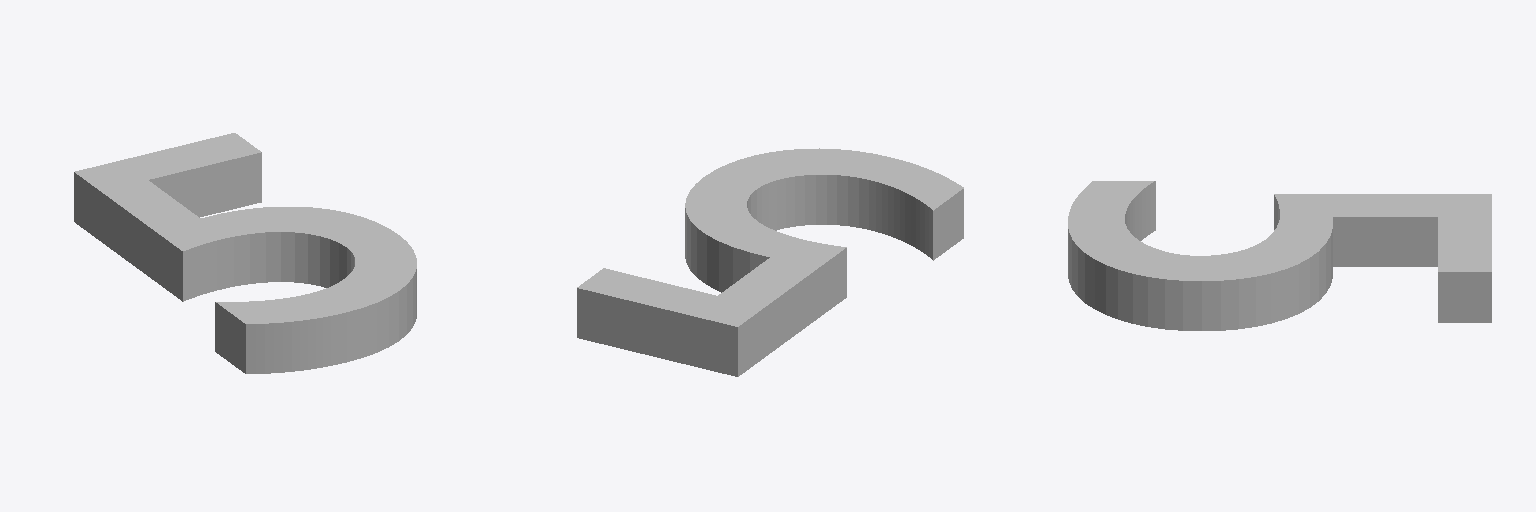
Rendered from five.obj.
3 renders of one model, left to right at view 1: azimuth 30°, elevation 25°; view 2: azimuth 150°, elevation 25°; view 3: azimuth 270°, elevation 25°, orthographic.
Visible parts, largest first — view 1: Text.004; view 2: Text.004; view 3: Text.004.
Boxes of the visible parts, x1,y1,x2,y2 form: Text.004: [74, 133, 416, 373]; Text.004: [577, 148, 963, 376]; Text.004: [1068, 181, 1491, 330].
Bounding box in the file's own units: 0.388 × 0.09 × 0.691.